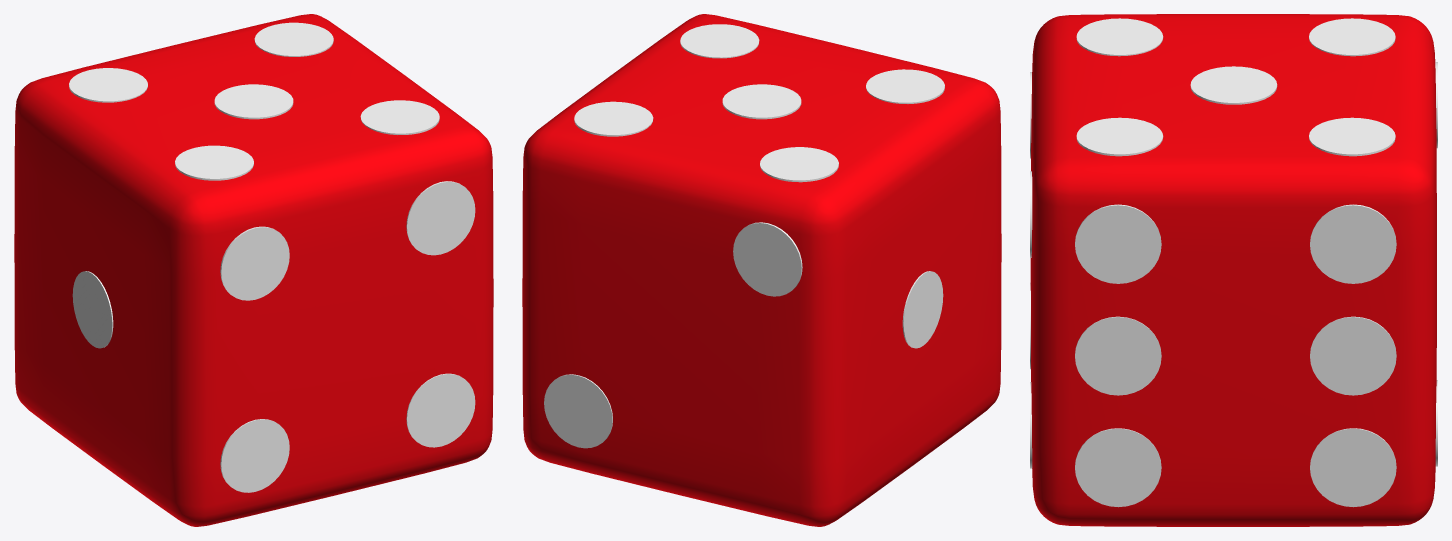
The model's file is RedDice.glb.
3 renders of one model, left to right at view 1: azimuth 30°, elevation 25°; view 2: azimuth 150°, elevation 25°; view 3: azimuth 270°, elevation 25°, orthographic. The views are drawn at different scales.
Visible parts, largest first — view 1: Dice, 4, 5, 1; view 2: Dice, 5, 2, 1; view 3: Dice, 6, 5, 4.
Boxes of the visible parts, box(x1,y1,x2,y2) form: Dice: box(14, 14, 493, 526); 4: box(220, 181, 475, 492); 5: box(69, 22, 439, 180); 1: box(72, 271, 113, 348); Dice: box(522, 14, 1001, 526); 5: box(574, 24, 944, 182); 2: box(544, 222, 802, 448); 1: box(902, 271, 943, 348); Dice: box(1030, 14, 1436, 526); 6: box(1075, 204, 1396, 507); 5: box(1076, 18, 1395, 156); 4: box(1030, 72, 1032, 468).
Bounding box in the file's own units: 2.01 × 2.01 × 2.01.
